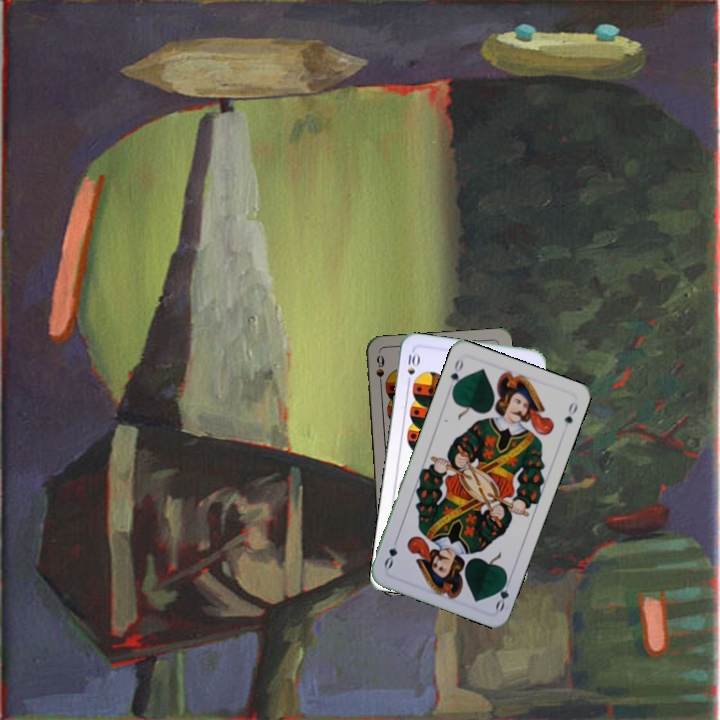GO: (491, 573, 514, 614), (446, 355, 466, 395)
S10: (403, 347, 421, 388)
S9: (372, 351, 387, 391)
